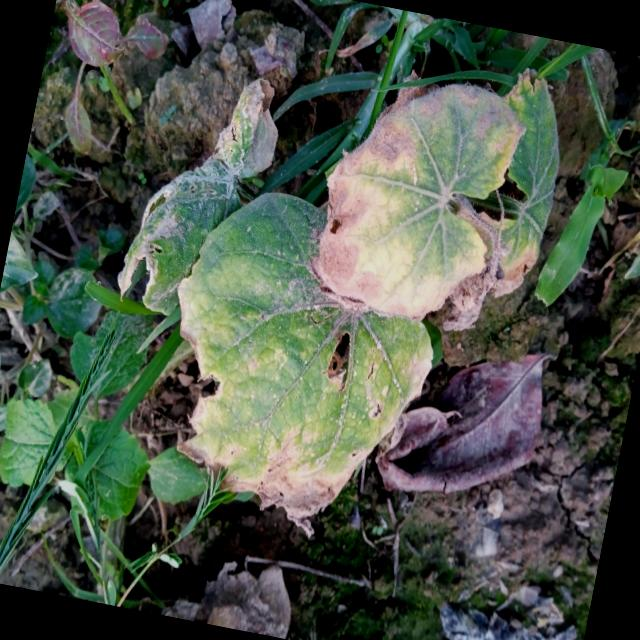cucumber_bacterial: (161, 290, 422, 546), (307, 81, 551, 328), (86, 39, 304, 284)
